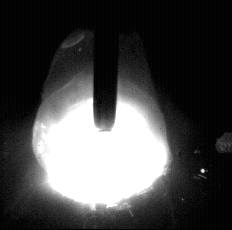arame: (94, 0, 118, 132)
poca: (31, 0, 171, 230)
